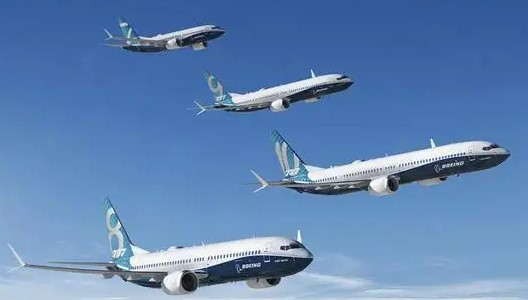plane: (5, 192, 314, 295), (249, 128, 512, 198), (185, 67, 356, 116), (99, 16, 227, 54)
